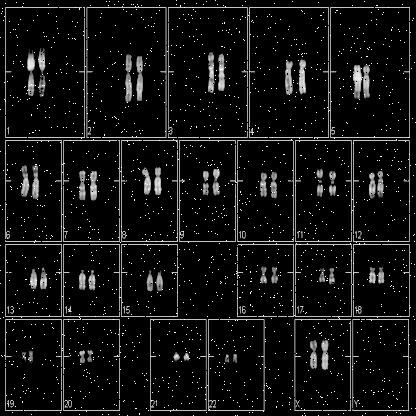1: (36, 45, 47, 99), (26, 46, 36, 98)
10: (268, 169, 279, 202), (258, 170, 268, 200)
11: (314, 166, 326, 200), (328, 169, 338, 199)
12: (376, 167, 385, 200), (368, 171, 377, 202)
13: (38, 264, 49, 292), (28, 265, 38, 291)
14: (78, 265, 86, 294), (88, 268, 96, 292)
15: (154, 268, 164, 294), (146, 266, 154, 292)
16: (259, 264, 268, 286), (271, 262, 278, 288)
17: (318, 264, 326, 286), (327, 264, 334, 288)
18: (368, 262, 376, 288), (377, 263, 385, 286)
19: (26, 348, 35, 366), (20, 349, 27, 363)
2: (124, 52, 134, 106), (134, 52, 144, 102)
20: (86, 346, 95, 366), (78, 348, 86, 365)
21: (172, 349, 181, 365), (183, 349, 190, 362)
22: (231, 352, 238, 368), (224, 352, 230, 364)
3: (206, 49, 216, 95), (216, 50, 226, 94)
4: (284, 56, 294, 99), (298, 58, 307, 98)
5: (352, 62, 362, 102), (362, 62, 371, 102)
6: (30, 162, 42, 202), (19, 164, 30, 200)
7: (88, 166, 100, 204), (77, 168, 88, 204)
8: (152, 164, 162, 197), (142, 166, 152, 196)
9: (211, 166, 221, 199), (202, 167, 210, 200)
X: (318, 336, 330, 374), (308, 336, 320, 372)
